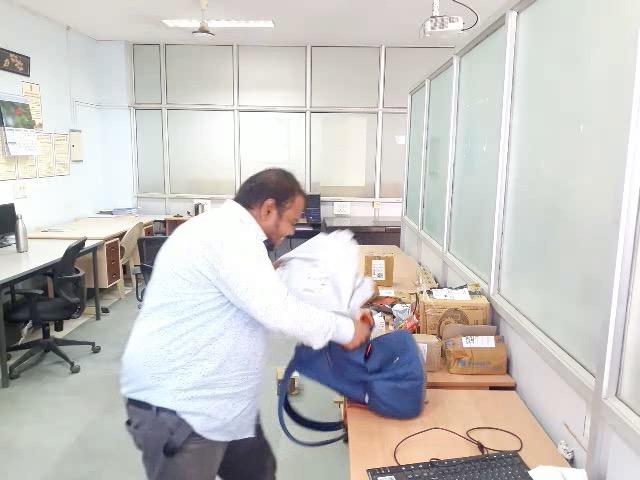shoplifting: (113, 142, 443, 443)
